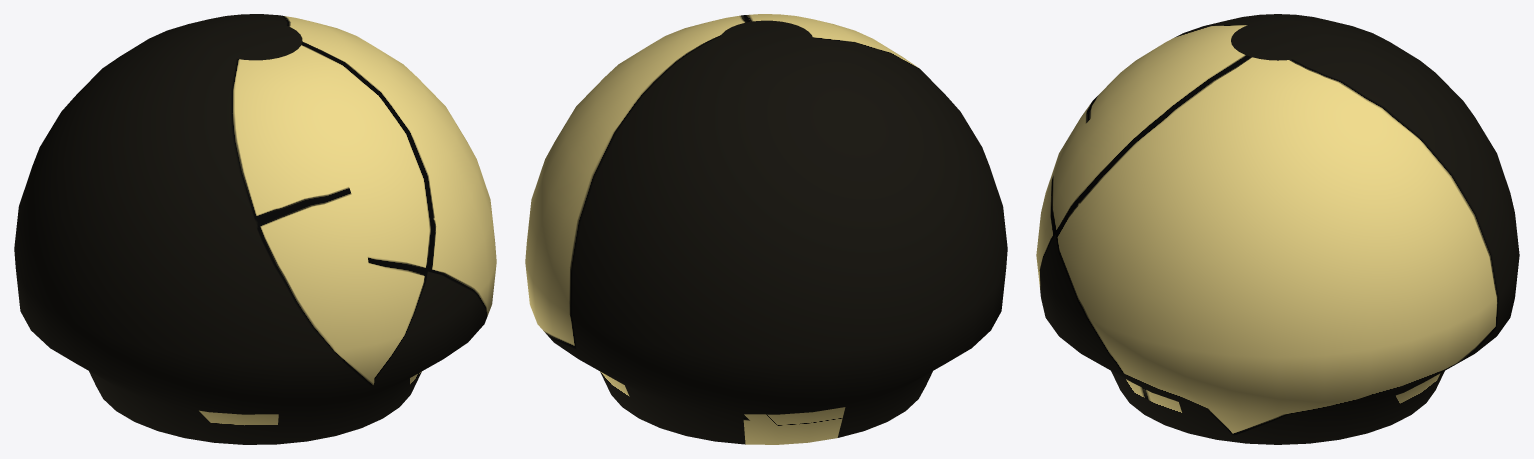
The model's file is player.obj.
The picture shows the model from 3 angles, left to right: view 1: azimuth 30°, elevation 25°; view 2: azimuth 150°, elevation 25°; view 3: azimuth 270°, elevation 25°; orthographic projection.
Visible parts, largest first — view 1: 球; view 2: 球; view 3: 球.
Boxes of the visible parts, left/top/right/bottom form: 球: left=14, top=14, right=496, bottom=444; 球: left=525, top=14, right=1007, bottom=444; 球: left=1036, top=14, right=1519, bottom=444.
Bounding box in the file's own units: 2 × 1.54 × 2.
